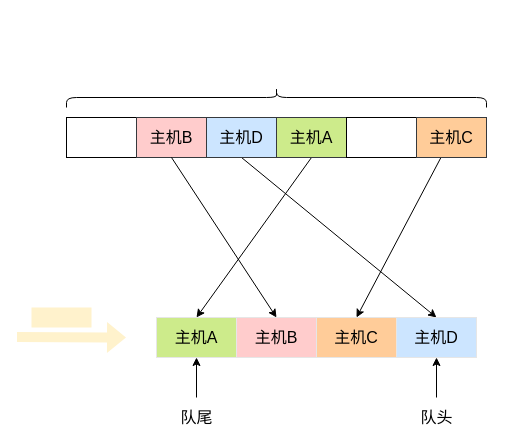
The diagram is 505 pixels wide and 444 high, and some of its shapes have lost their labels. Here are the shapes that lost their labels. From the top down, the centre of each, then its label:
At (276,97): "哈希表 key 为主机 IP Value 为主机在双向链表里的节点".
At (61,317): "心跳包".
